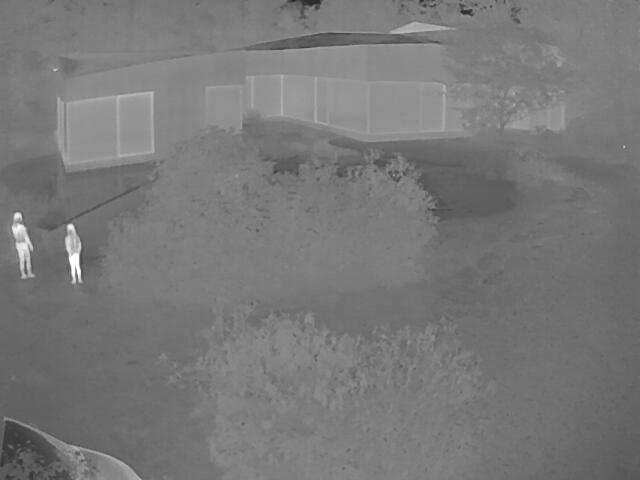person: (10, 211, 34, 279), (62, 222, 81, 286)
